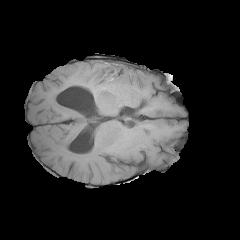glioma: (49, 63, 125, 103)
